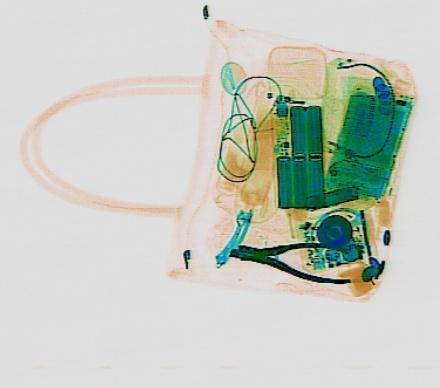Pliers: (224, 226, 358, 287)
